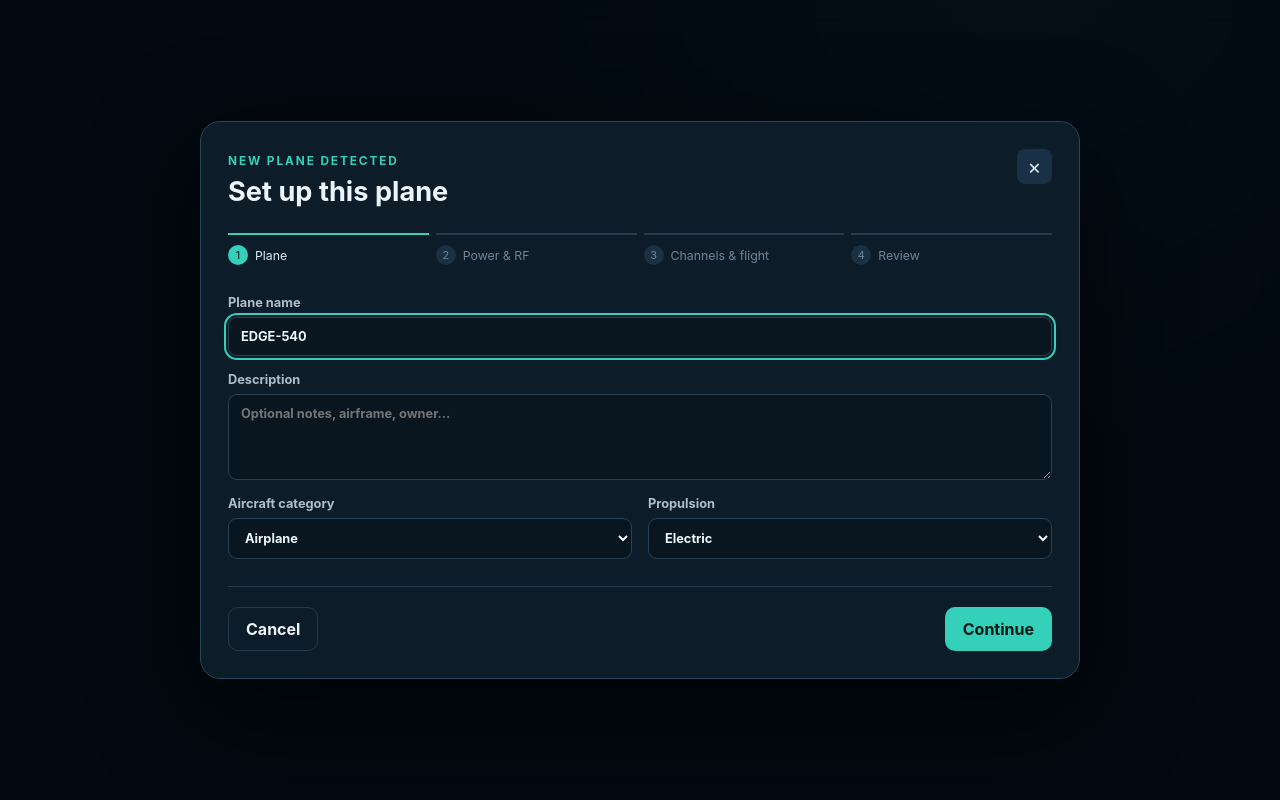
it: new plane wizard › applies chemistry defaults and updates pack voltages as cells change
The image size is (1280, 800).
Click the button "Continue" at (998, 629), box [945, 607, 1052, 651]
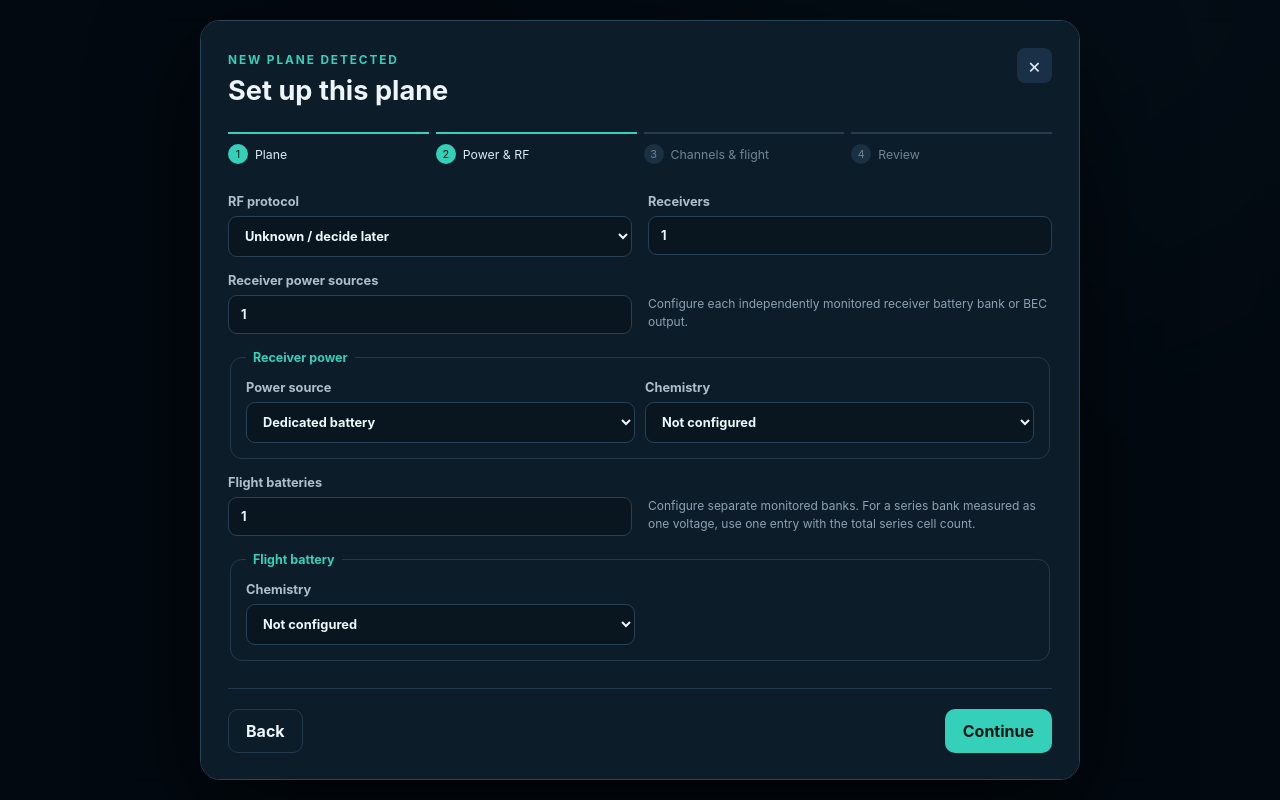
Select "LiPo" in the 1st dropdown labelled "Chemistry" at (840, 422), box [645, 402, 1034, 443]
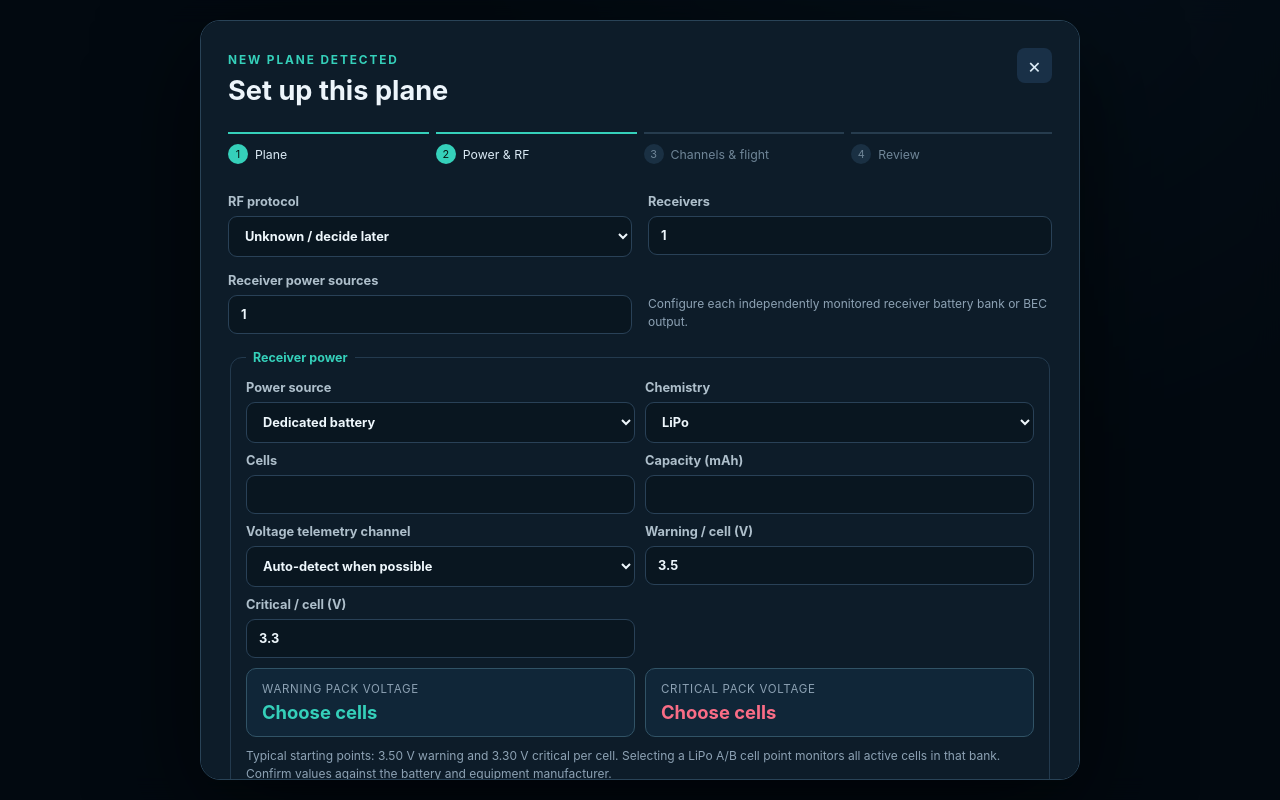
Expected: the number field labelled "Warning / cell (V)" holds "3.5", [645, 546, 1034, 585]
Expected: the number field labelled "Critical / cell (V)" holds "3.3", [246, 619, 635, 658]
Type "4" into the number field labelled "Cells" at (440, 494), box [246, 475, 635, 514]
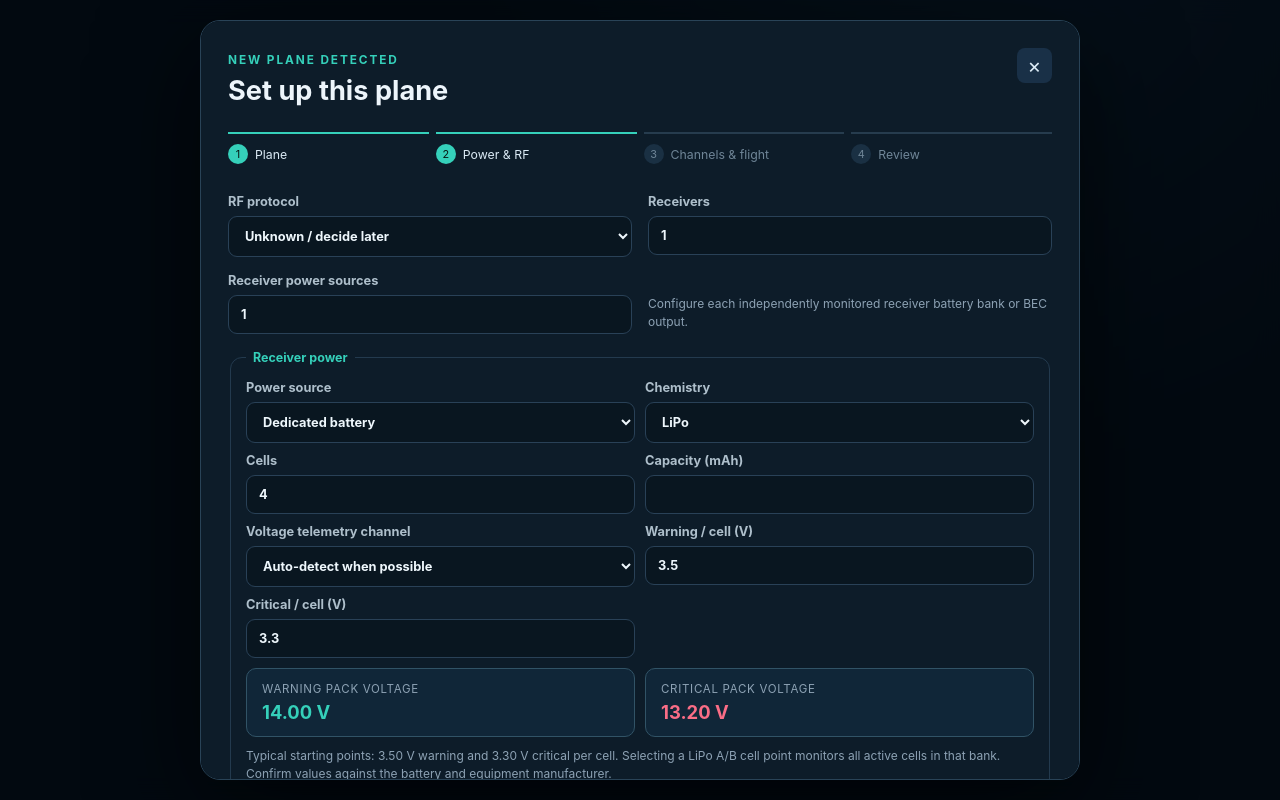
Expected: the text "14.00 V" is shown, [262, 701, 330, 723]
Expected: the text "13.20 V" is shown, [661, 701, 729, 723]
